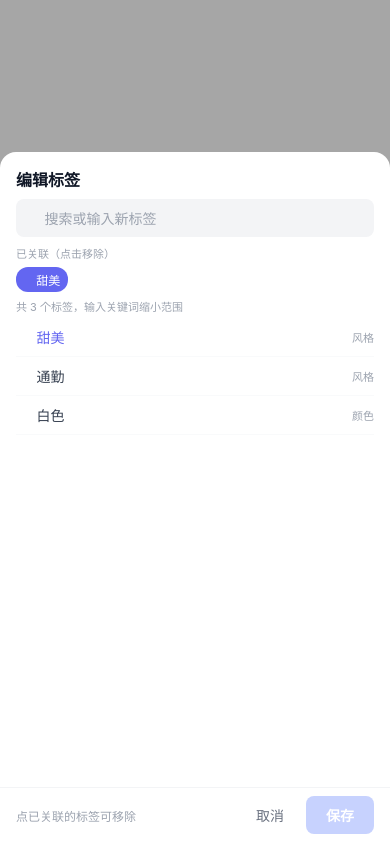
Test case: TagEditor › 搜索只保留匹配的标签，并提示匹配数量
This screenshot has width=390, height=844.
Type "通" into the field with placeholder "搜索或输入新标签" at (204, 218), box [44,210,364,227]
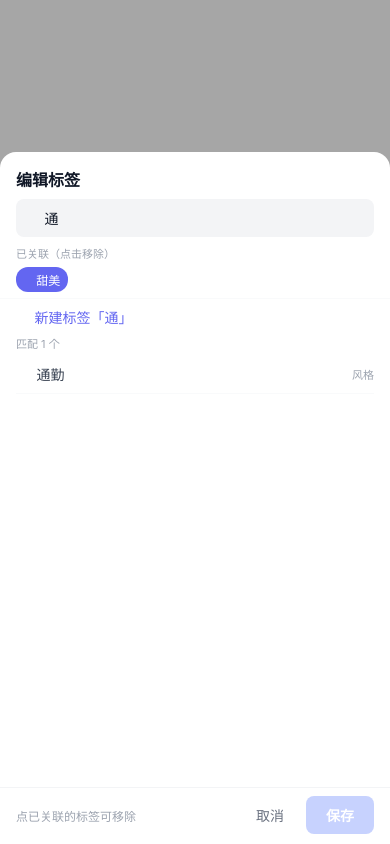
Check: the text "通勤" is shown, box [36,366,64,383]
Check: the text "白色" is gone
Check: the text "匹配 1 个" is shown, box [16,337,60,351]
